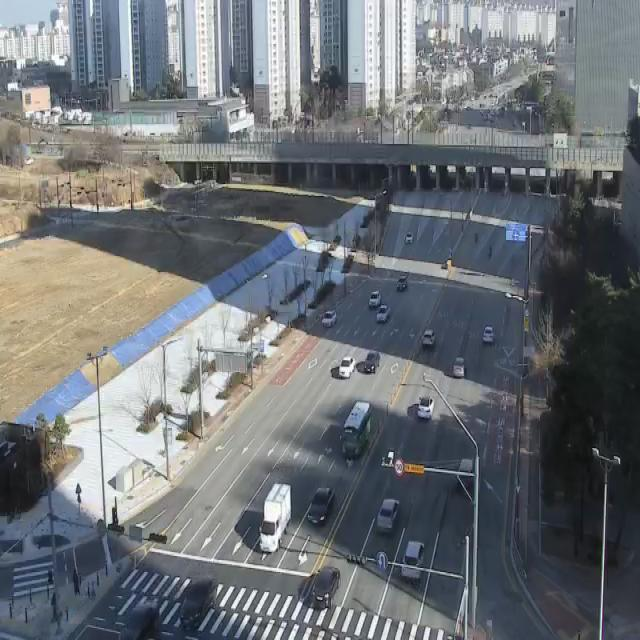Bus: (342, 402, 374, 458)
Car: (180, 578, 217, 631), (117, 605, 163, 640), (312, 566, 340, 608), (307, 486, 336, 526), (401, 541, 426, 583), (377, 499, 401, 532), (417, 396, 435, 419), (338, 356, 356, 379), (364, 350, 381, 373), (376, 304, 392, 323), (452, 357, 466, 377), (422, 330, 437, 348), (483, 325, 496, 345), (322, 310, 336, 328), (369, 291, 381, 308), (396, 276, 408, 292)
Truck: (260, 484, 291, 552)
